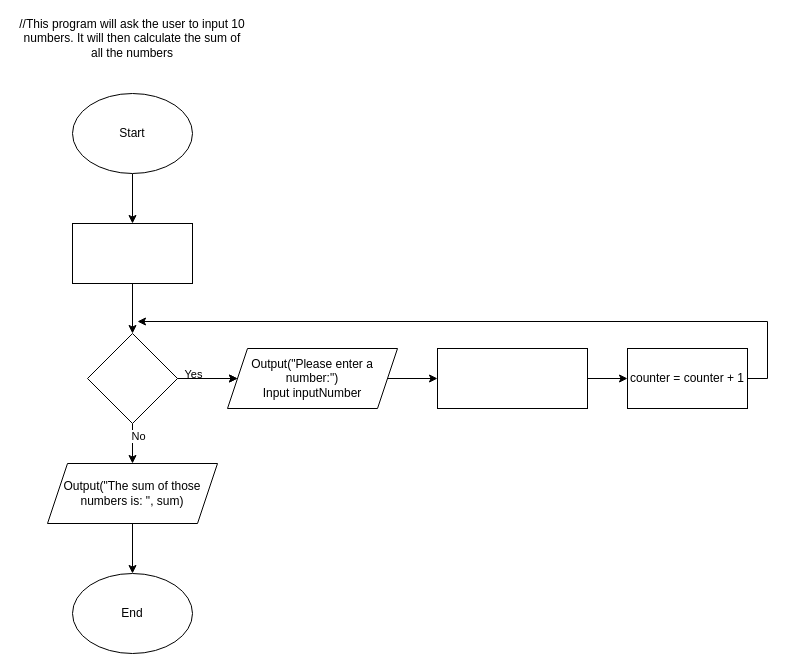
This 793x671 diagram has some shape labels left out. Each missing label, with the centre of its shape:
"counter < 10?" belongs at (x=132, y=378).
"Declarations num counter = 0 num sum = 0 num inputNumber = 0" belongs at (x=132, y=253).
"sum = inputNumber + sum" belongs at (x=512, y=378).
